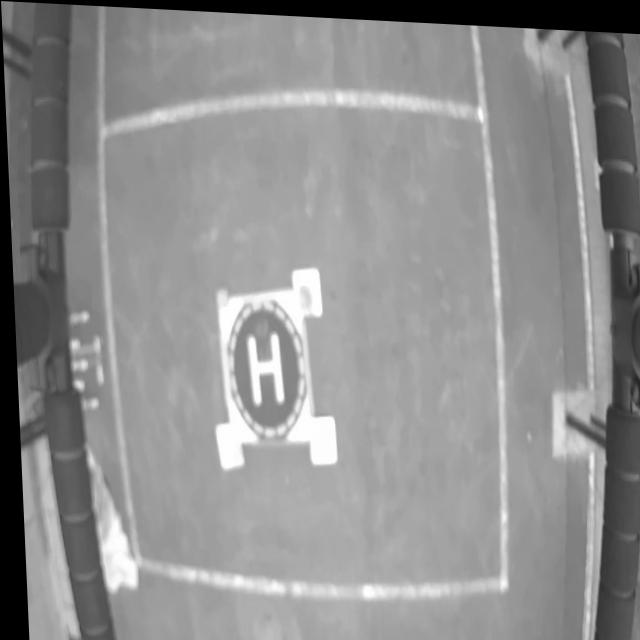Helipad: (242, 328, 281, 402)
